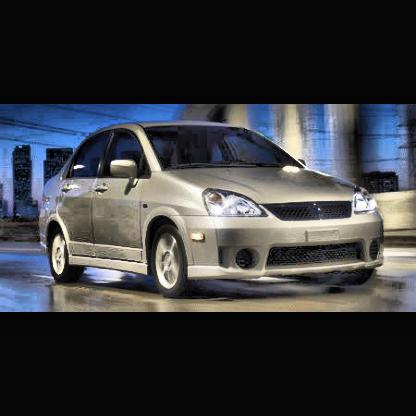Suzuki Aerio Sedan 2007: (42, 124, 389, 298)
